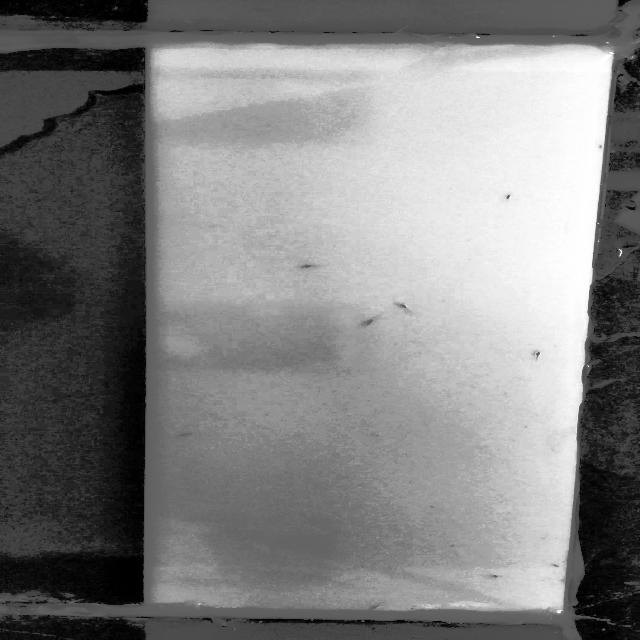shrimp: (360, 302, 390, 332), (395, 295, 418, 317), (527, 346, 551, 365), (294, 260, 326, 272), (169, 429, 201, 439), (497, 190, 519, 204), (364, 600, 386, 614), (549, 556, 564, 575), (487, 571, 501, 581)
